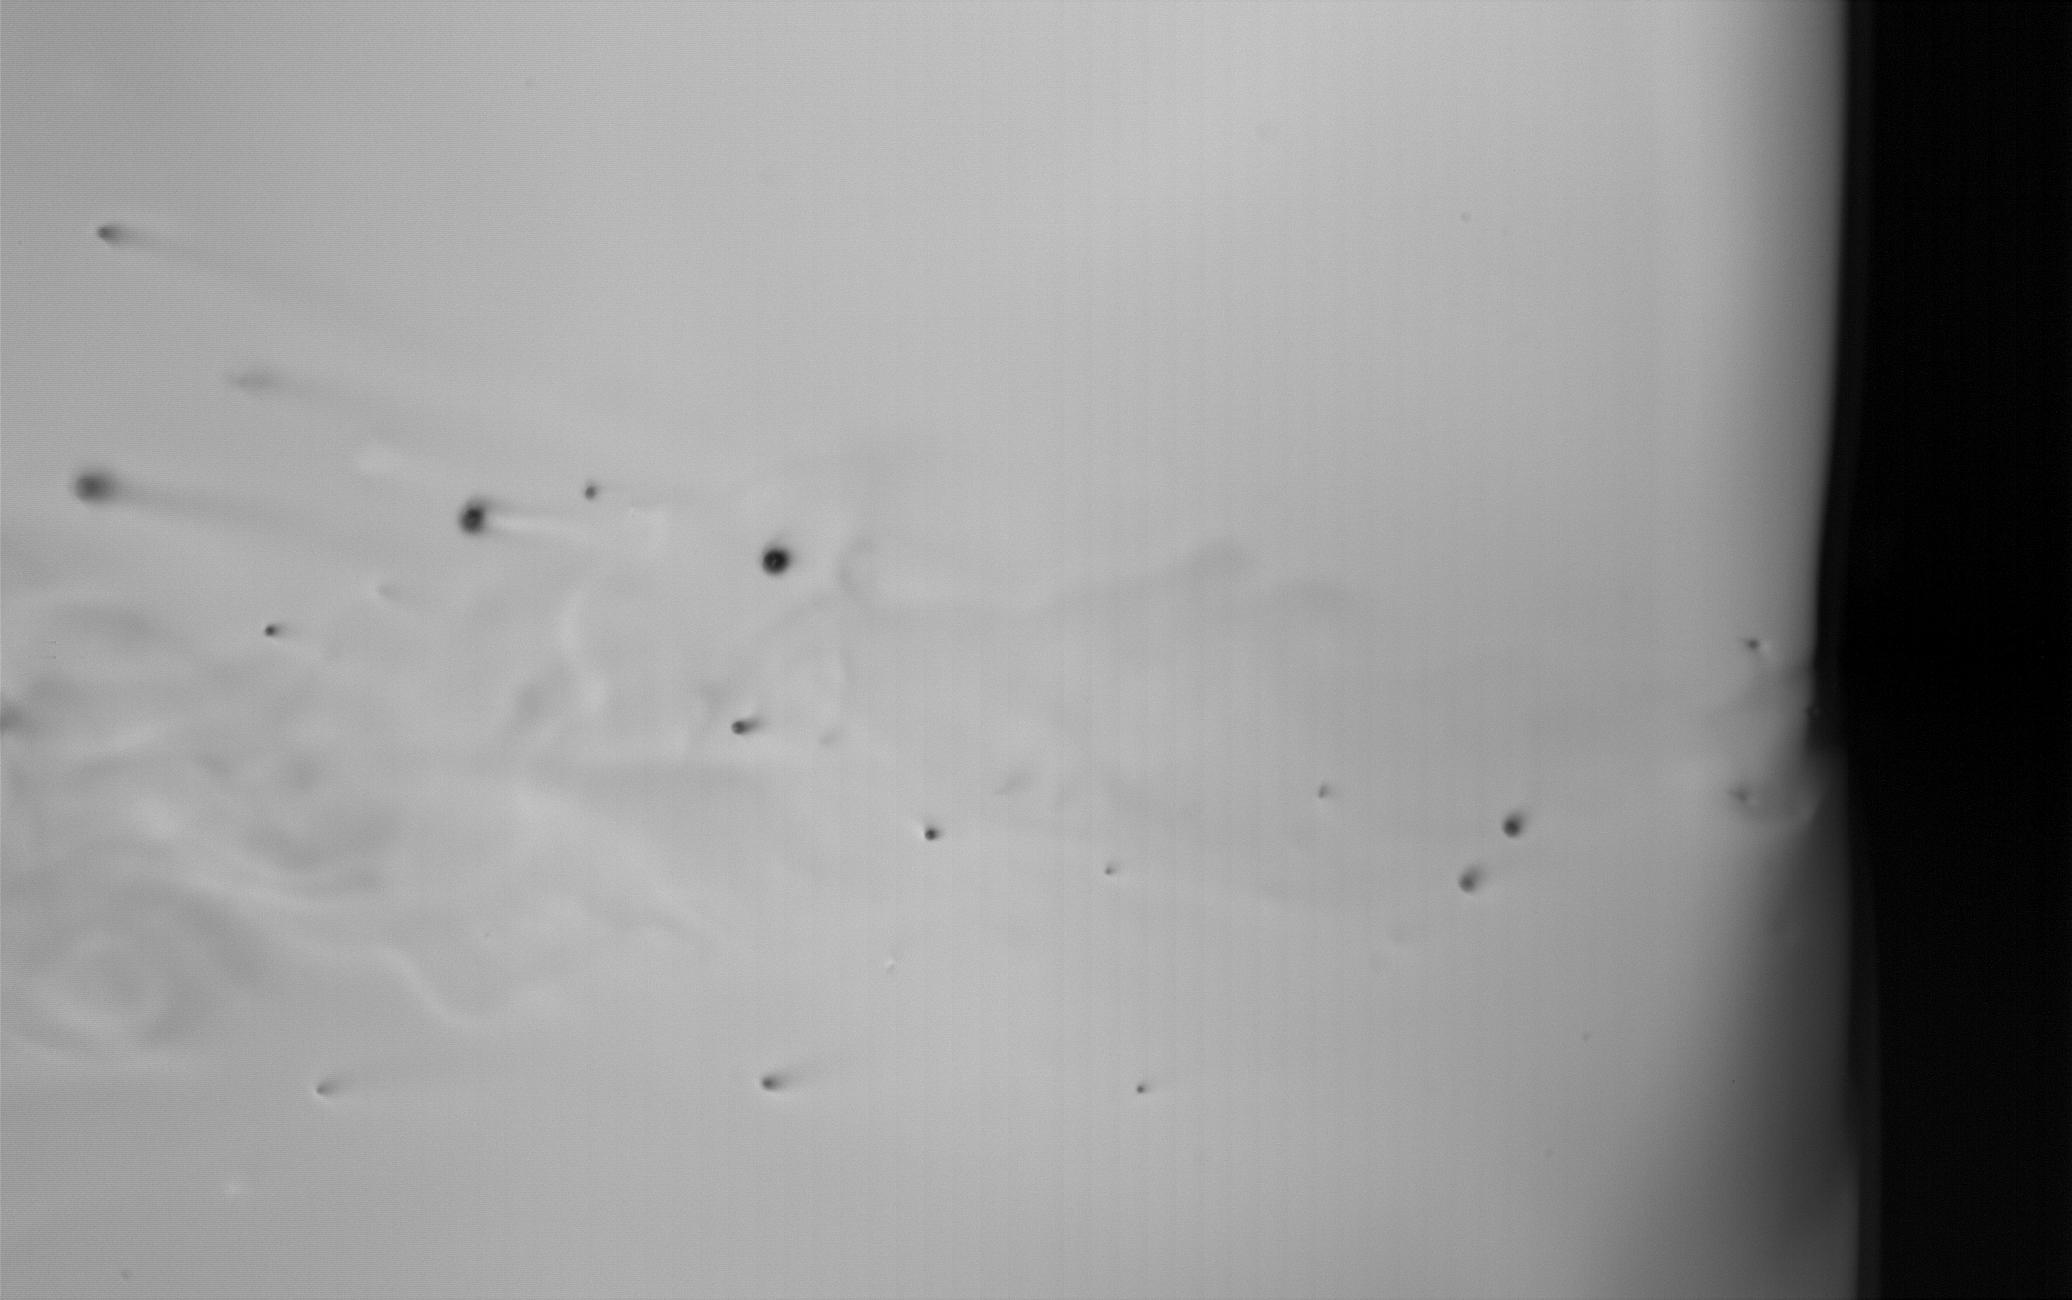Blurry: (70, 457, 118, 511), (228, 361, 283, 394), (93, 216, 136, 249), (1310, 773, 1341, 815), (307, 1066, 338, 1108), (1093, 845, 1123, 887), (1132, 1069, 1162, 1111), (1744, 625, 1774, 666)
ClassicalEvaporation: (755, 532, 798, 580), (1451, 860, 1487, 909), (458, 493, 493, 541), (1497, 804, 1535, 848), (747, 1062, 787, 1101), (570, 475, 608, 509), (731, 714, 755, 743), (260, 622, 277, 640), (921, 824, 937, 842)
